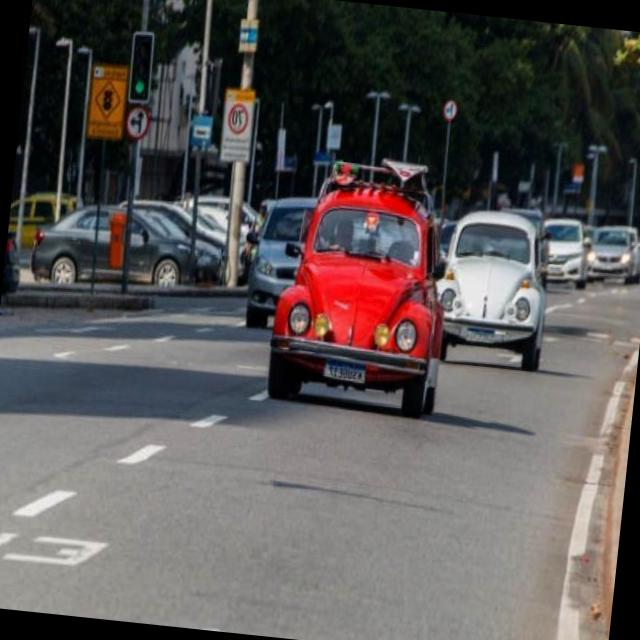car: (264, 167, 458, 419), (428, 198, 560, 362), (584, 217, 640, 289), (534, 216, 589, 283)
